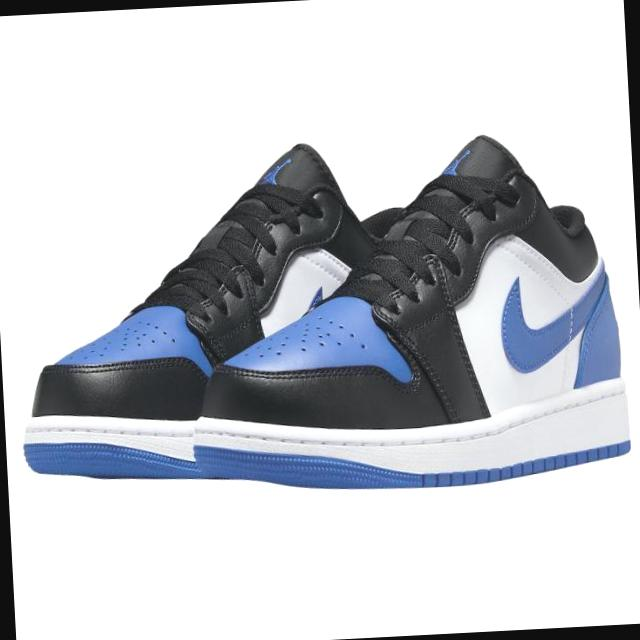nike_original_jordan: (174, 128, 638, 502), (5, 137, 432, 491)
